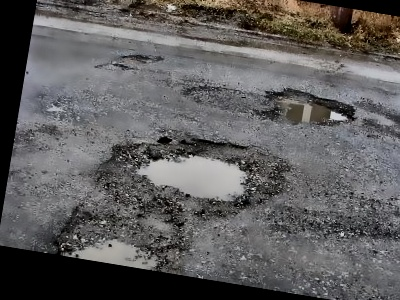pothole: (86, 117, 295, 234), (50, 200, 199, 276), (260, 82, 362, 136), (119, 48, 164, 68), (97, 58, 135, 75)
